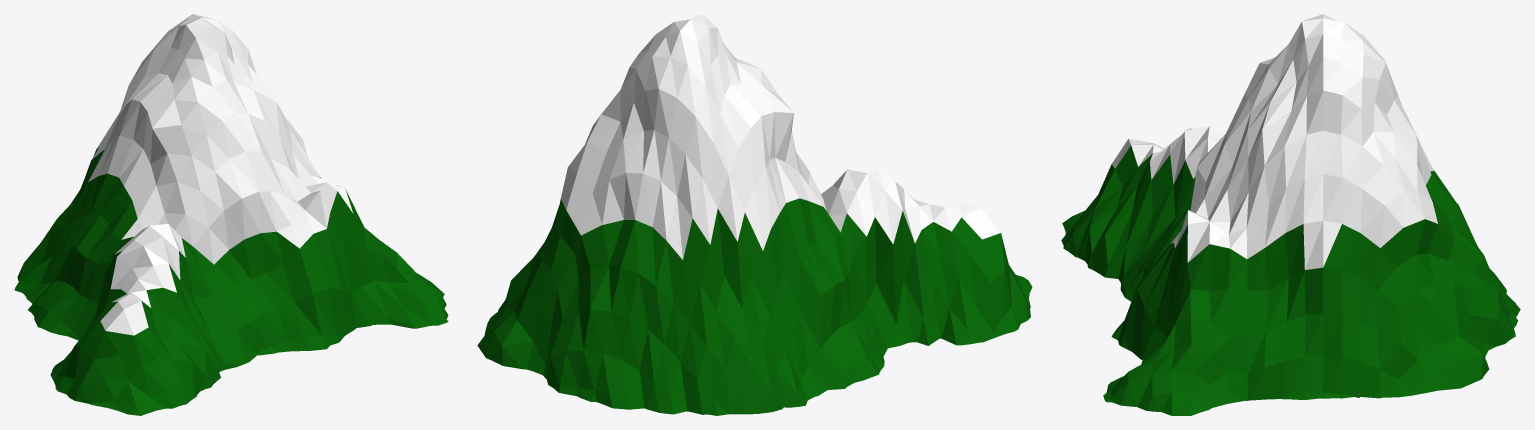
File: Proto_Terrain_Mountain_Capped_01.fbx
3 views of the same model, side by side, from view 1: azimuth 30°, elevation 25°; view 2: azimuth 150°, elevation 25°; view 3: azimuth 270°, elevation 25° (orthographic). The views are drawn at different scales.
Visible parts, largest first — view 1: Proto_Terrain_Mountain_Capped_01; view 2: Proto_Terrain_Mountain_Capped_01; view 3: Proto_Terrain_Mountain_Capped_01.
Boxes of the visible parts, box(x1,y1,x2,y2) form: Proto_Terrain_Mountain_Capped_01: box(14, 14, 448, 415); Proto_Terrain_Mountain_Capped_01: box(477, 14, 1032, 415); Proto_Terrain_Mountain_Capped_01: box(1061, 14, 1520, 415).
Bounding box in the file's own units: 24.86 × 16.49 × 22.68.
